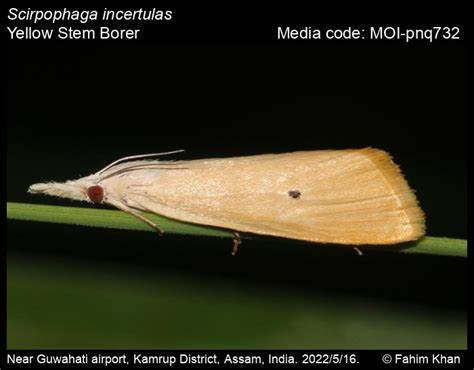Crambidae: (23, 140, 428, 246)
